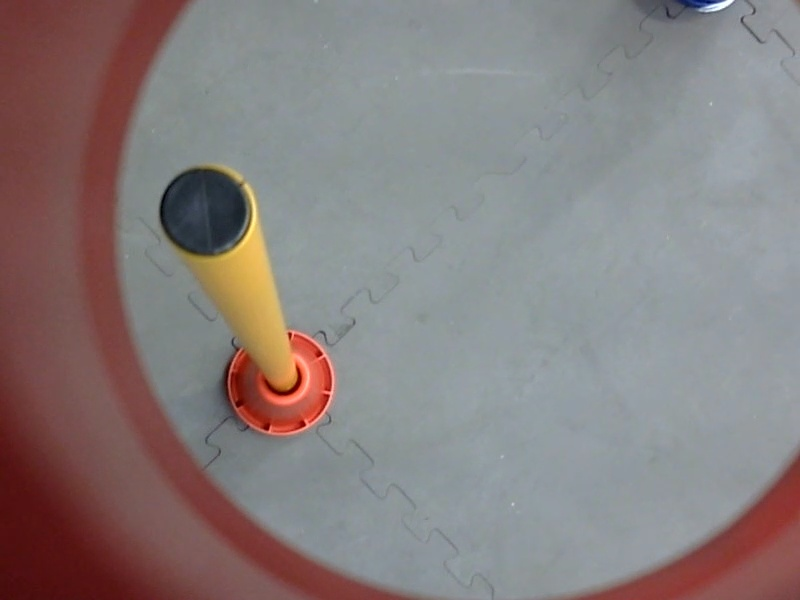tip: (151, 152, 262, 265)
